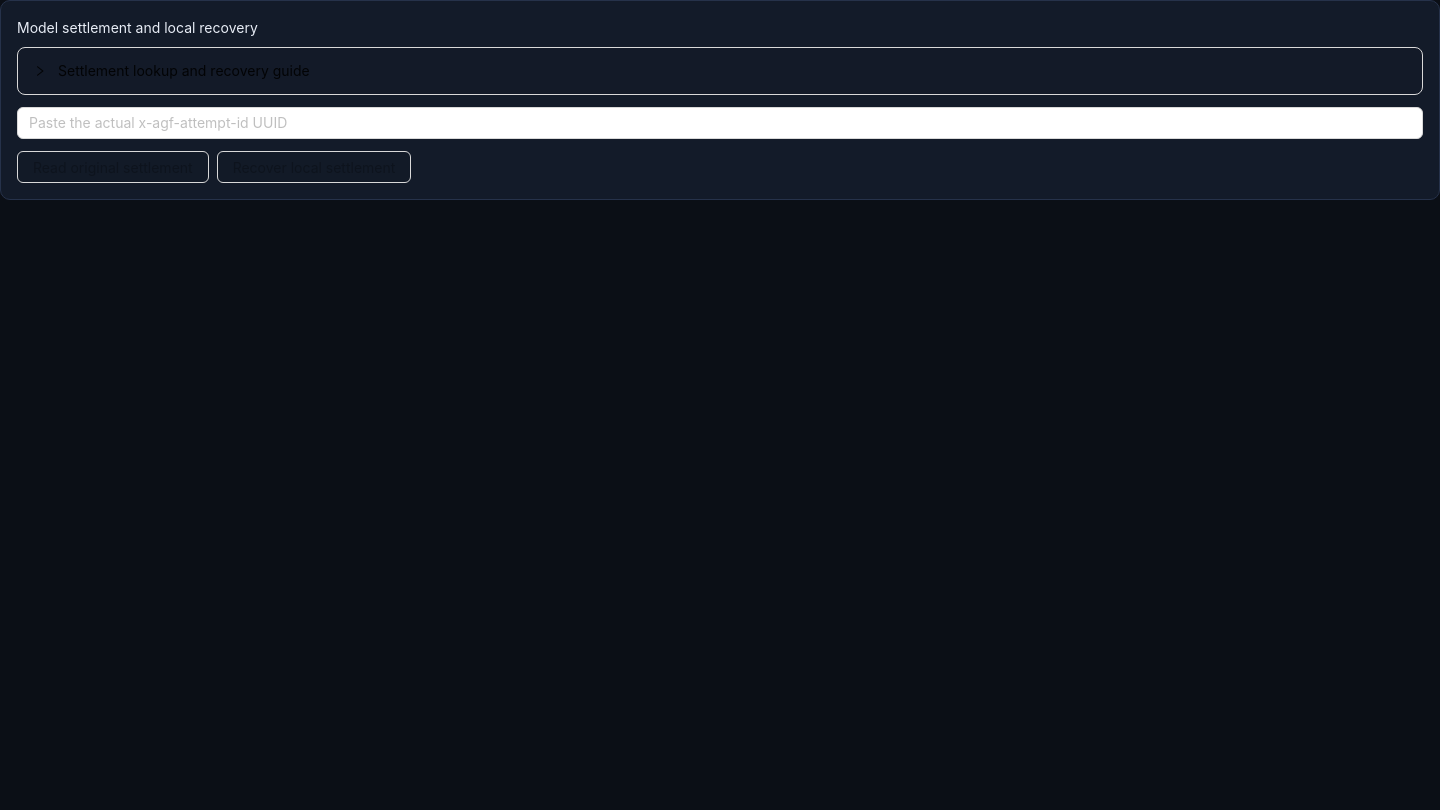
it: shows unknown recovery with original ID retained and 404 cannot reenable writes
The image size is (1440, 810).
In the field named "Original model attempt ID": point(720, 123) top-left (17, 107), bottom-right (1423, 139), type "957a5c39-28a3-4a45-a830-6855f4763730"
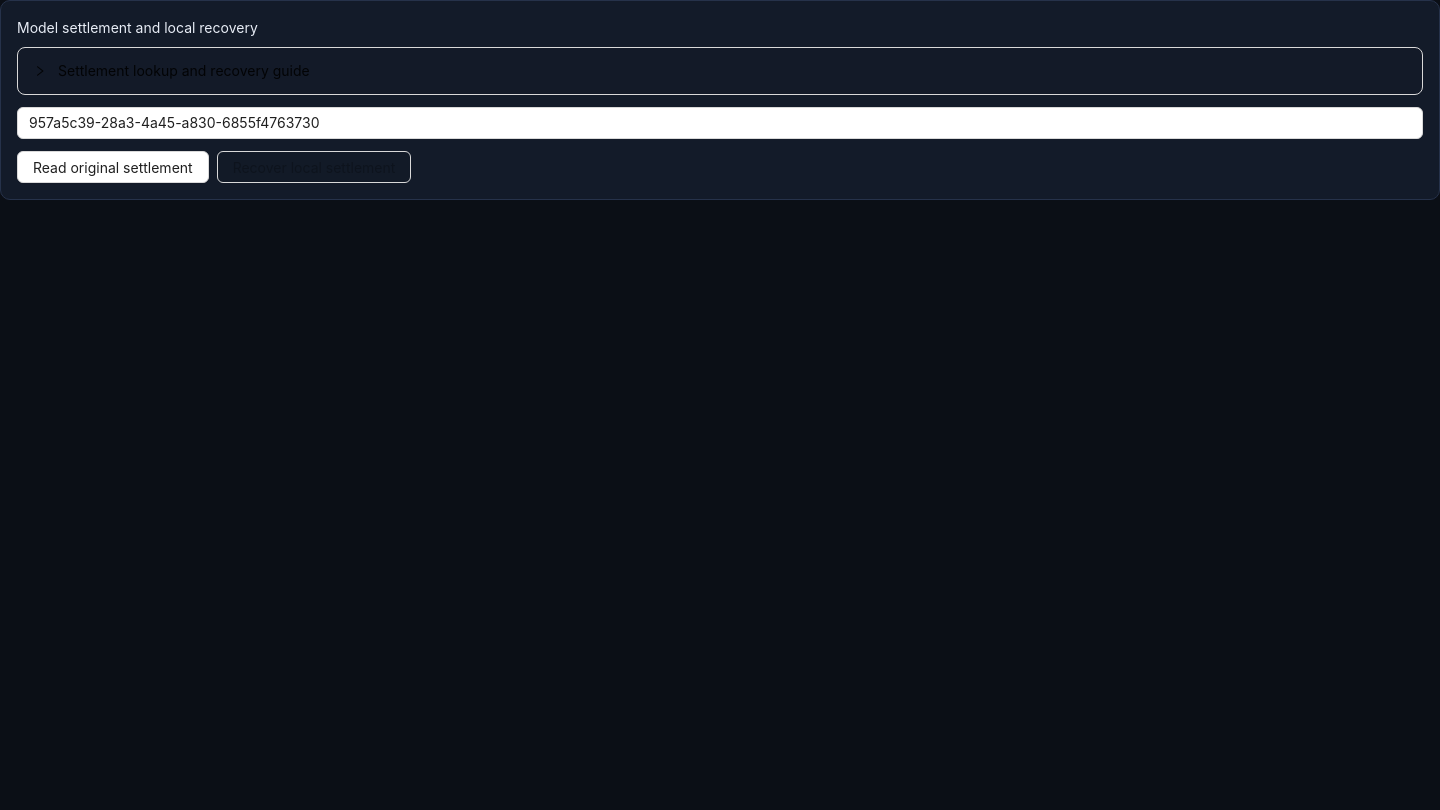
Click the button "Read original settlement": point(113, 167) top-left (17, 151), bottom-right (209, 183)
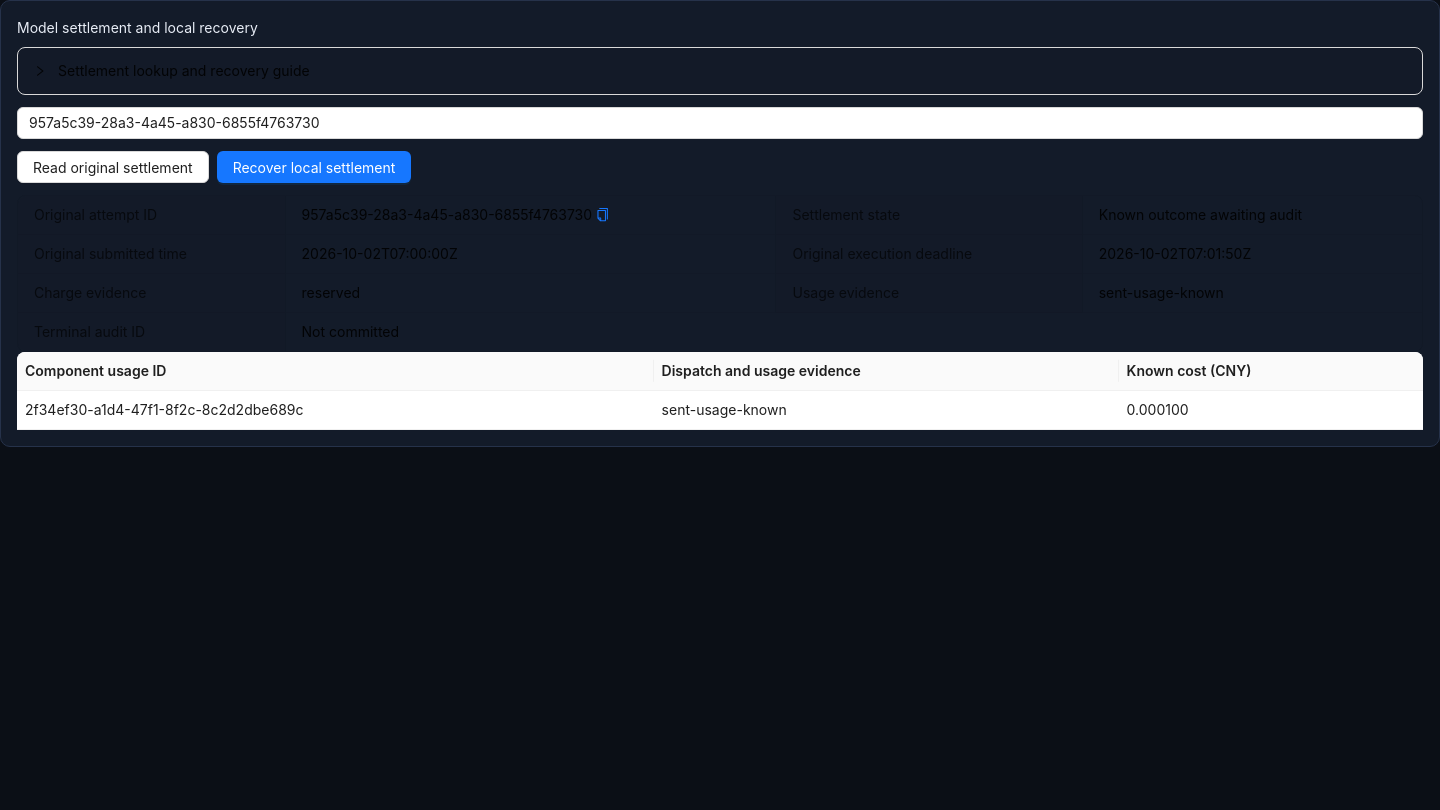
Expected: the text "Known outcome awaiting audit" is shown, top-left (1099, 206), bottom-right (1302, 223)
Click the button "Recover local settlement": point(314, 167) top-left (217, 151), bottom-right (411, 183)
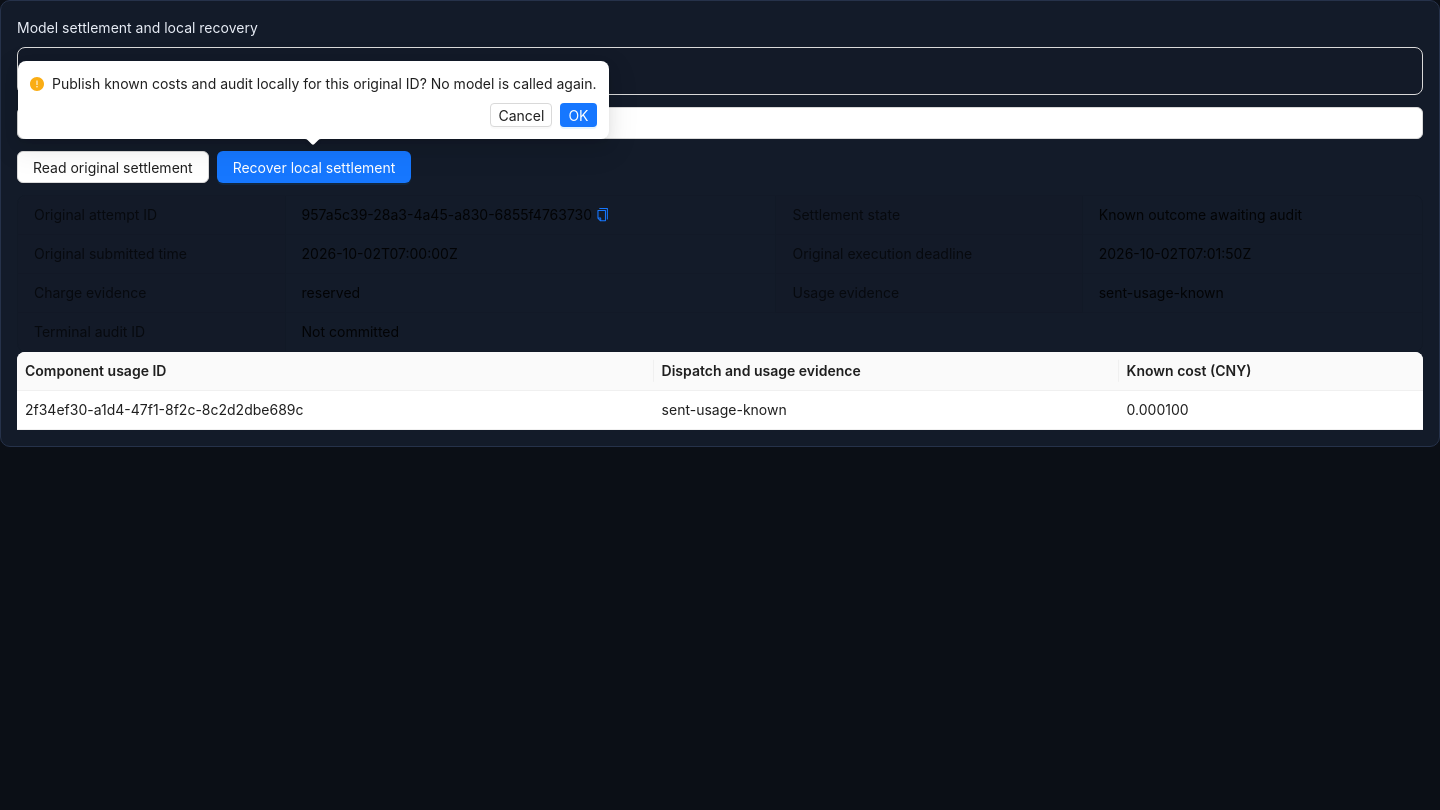
Click the button "OK": point(578, 115) top-left (560, 103), bottom-right (596, 127)
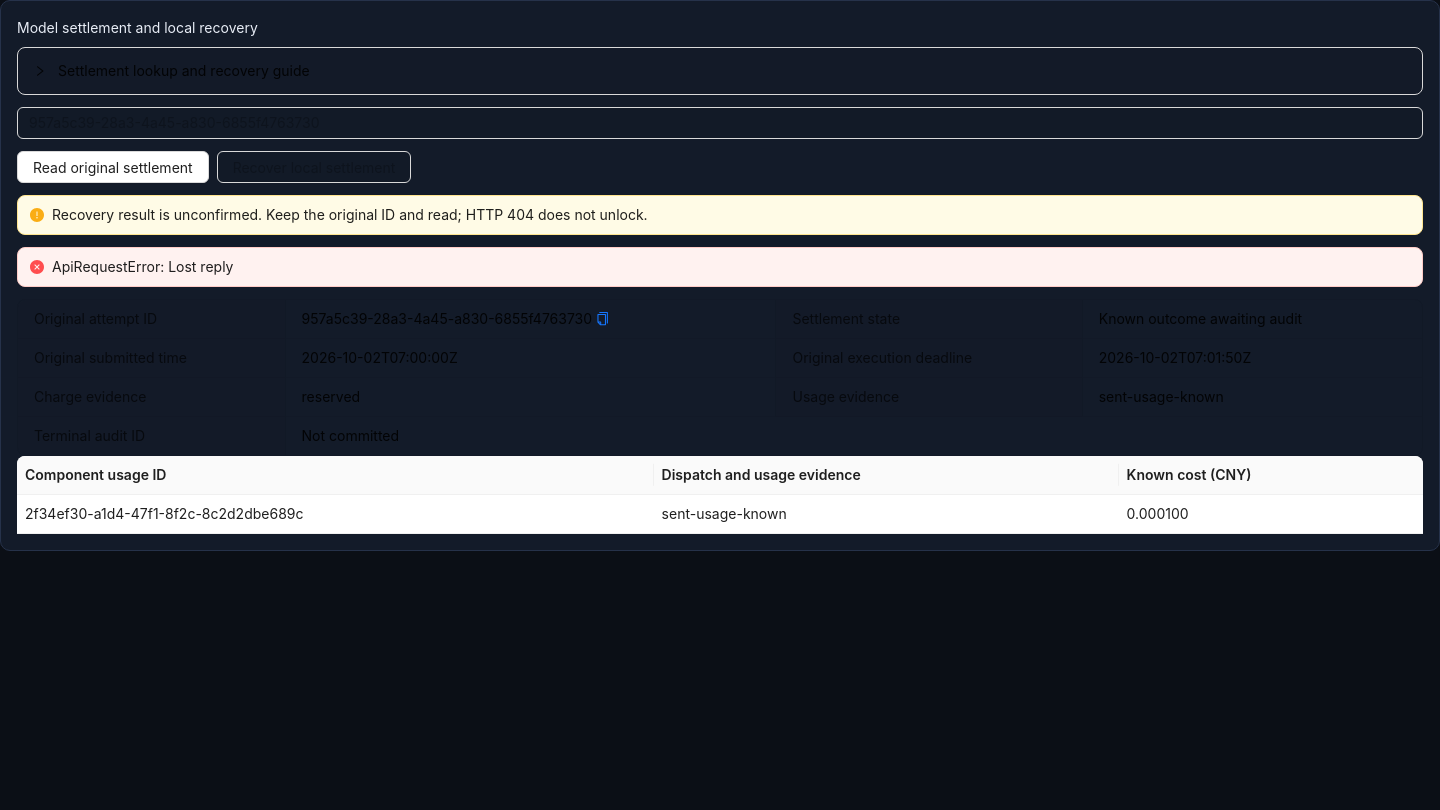
Result: the text "Recovery result is unconfirmed. Keep the original ID and read; HTTP 404 does not unlock." is shown at top-left (52, 206), bottom-right (648, 223)
Click the button "Read original settlement": point(113, 167) top-left (17, 151), bottom-right (209, 183)
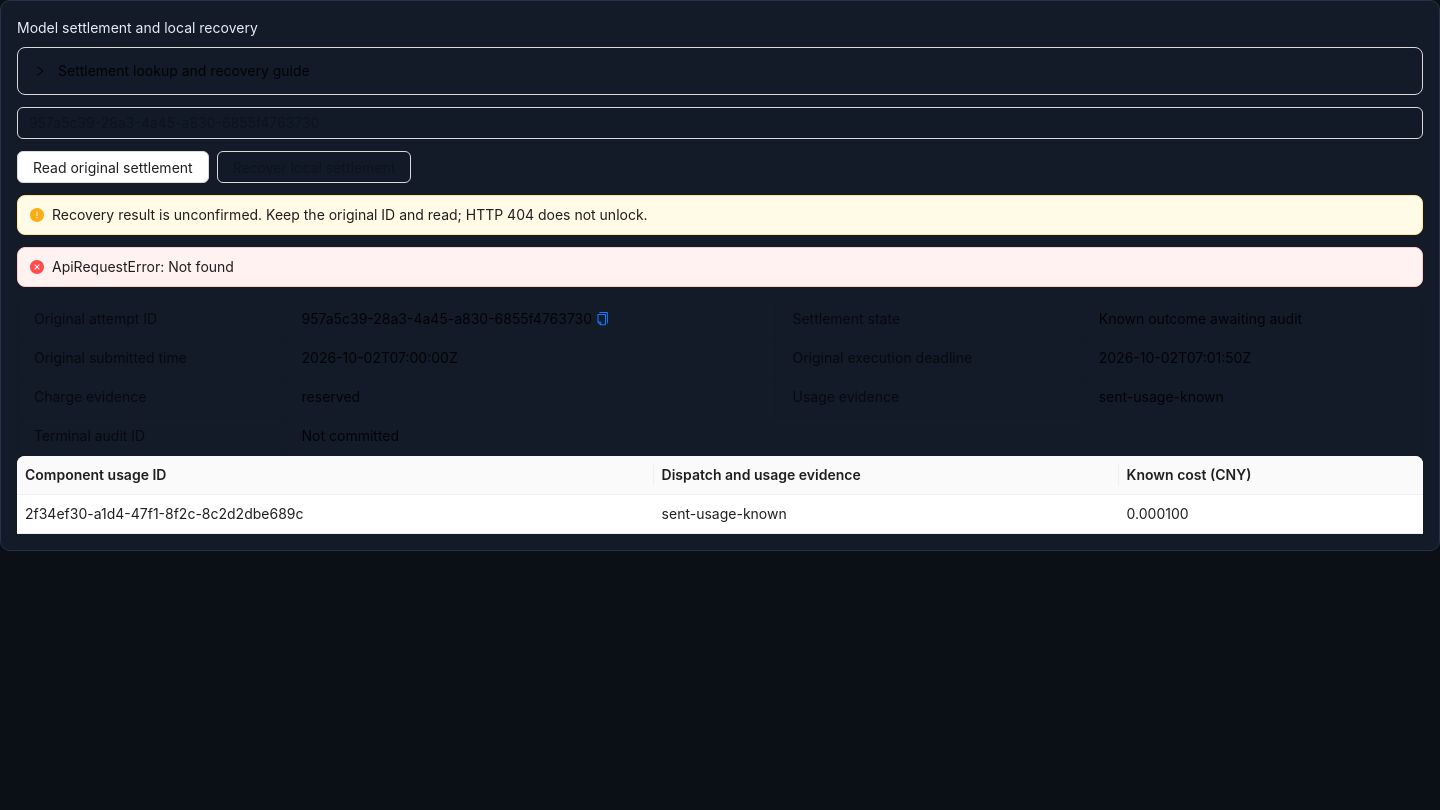
Result: the field showing "957a5c39-28a3-4a45-a830-6855f4763730" is disabled at top-left (17, 107), bottom-right (1423, 139)
Result: the button "Recover local settlement" is disabled at top-left (217, 151), bottom-right (411, 183)
Result: the text "ApiRequestError: Not found" is shown at top-left (52, 258), bottom-right (234, 275)
